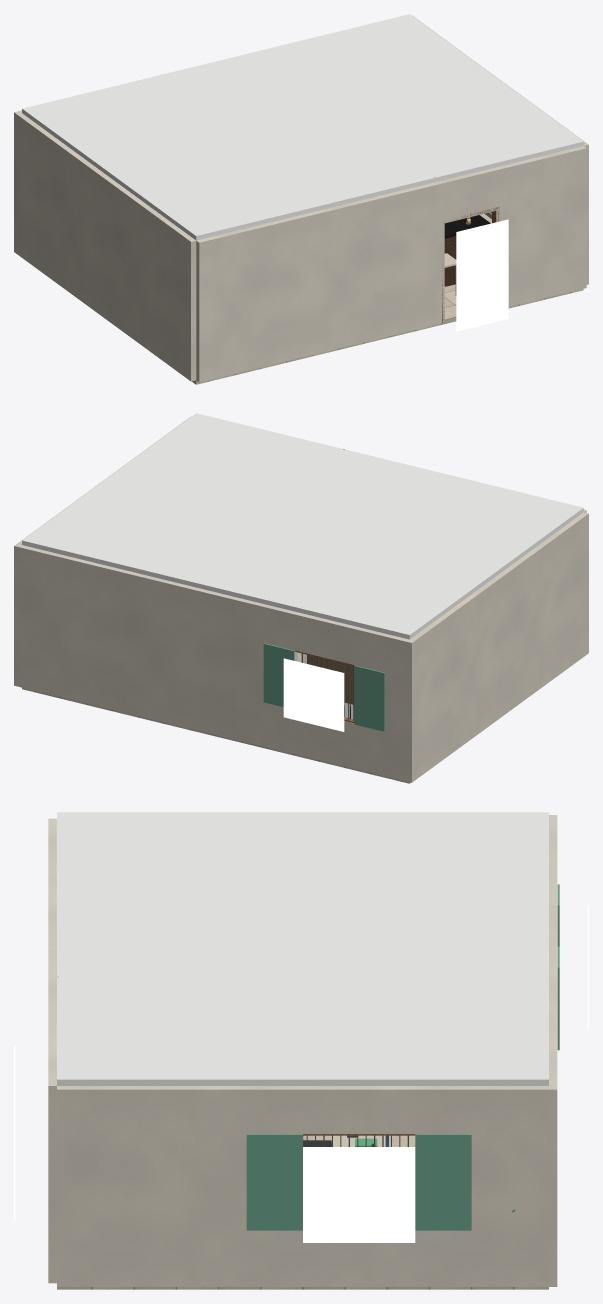
The model's file is room_dev_office.glb.
3 renders of one model, top to bottom at view 1: azimuth 30°, elevation 25°; view 2: azimuth 150°, elevation 25°; view 3: azimuth 270°, elevation 25°, orthographic. The views are drawn at different scales.
Visible parts, largest first — view 1: Room; view 2: Room; view 3: Room.
Part boxes in pixels (x1,y1,x2,y2): Room: (14, 14, 588, 384); Room: (14, 413, 588, 783); Room: (14, 812, 588, 1289).
Size of the model in its own units: 9.69 by 3.31 by 8.18.
Materials: 65 (10 with a texture image).
